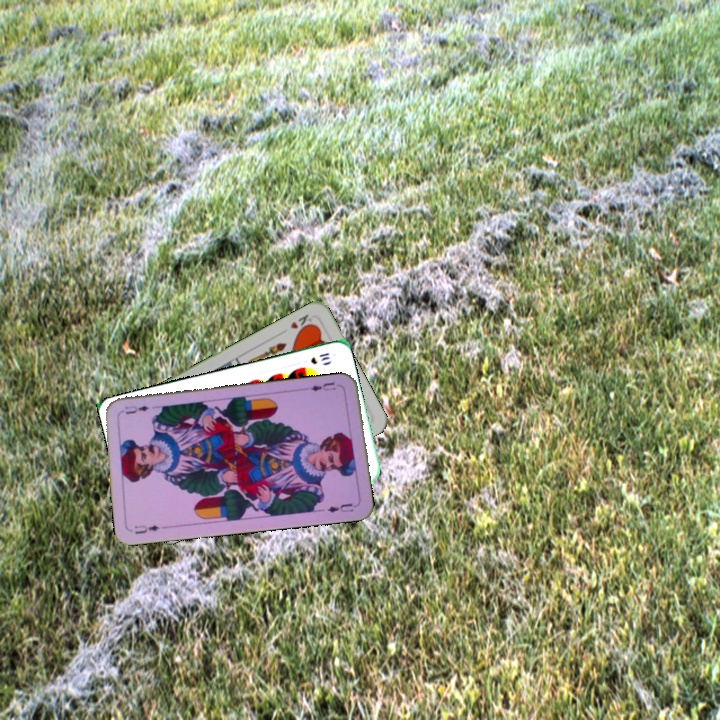EU: (306, 378, 338, 394), (130, 521, 162, 537)
HK: (286, 310, 316, 335)
S10: (307, 349, 332, 367)
